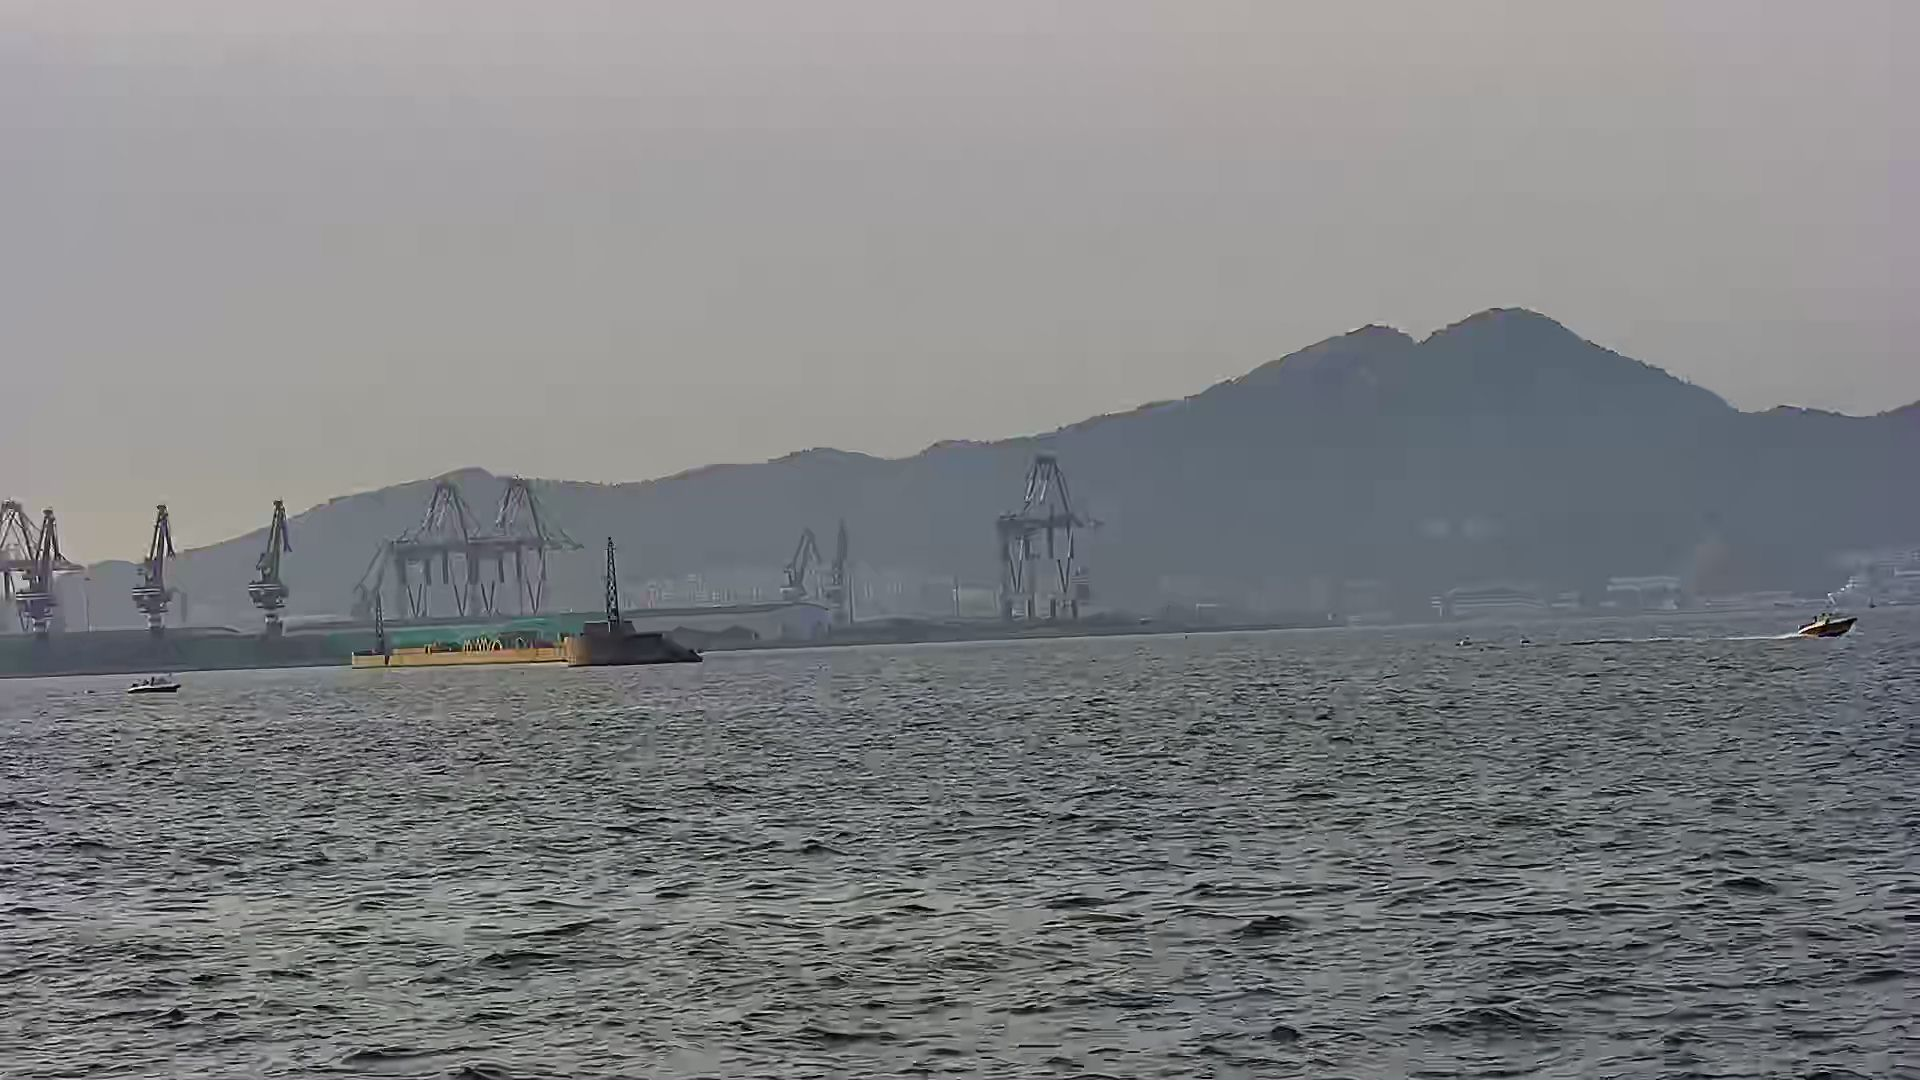boat: (1787, 603, 1859, 646), (127, 667, 185, 699)
